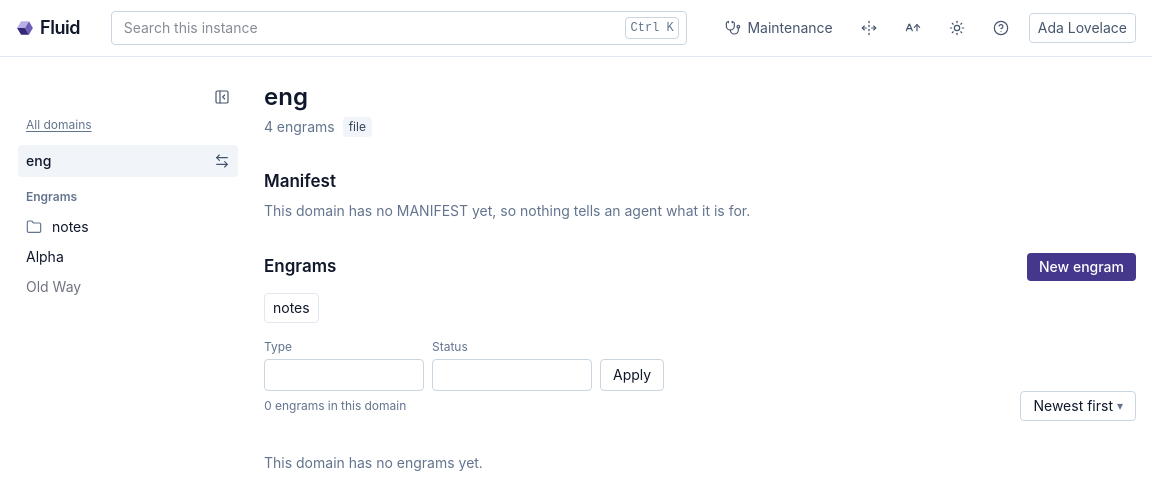
it: the sidebar inside a domain › moves to another domain when the switcher picks one
What coordinates should you click on to do the following:
click the button named "Switch domain"
I would click on:
 (222, 161)
Its box is [206, 145, 238, 177].
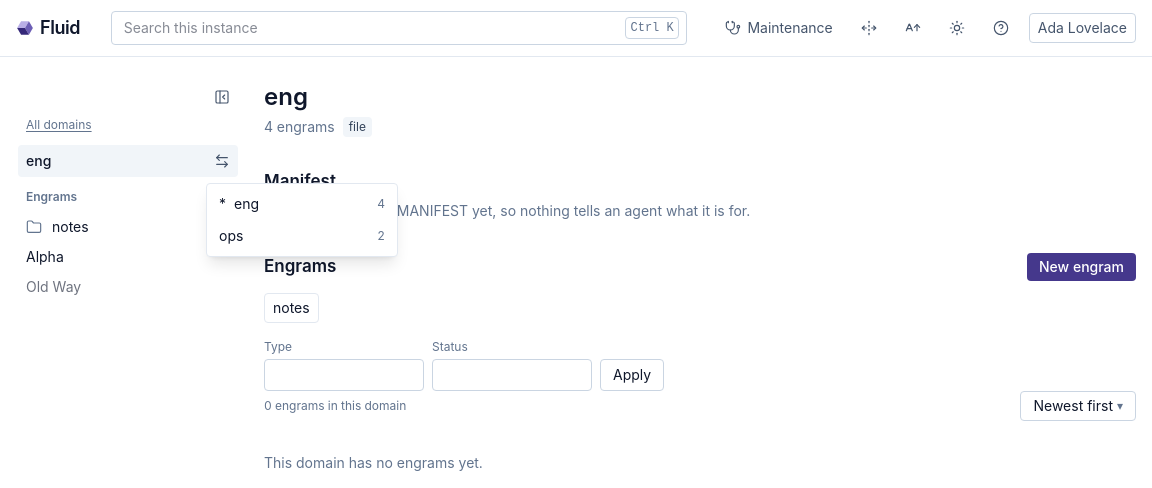
Expected: the menu item "ops 2" is shown
What coordinates should you click on to do the following:
click the menu item "ops 2"
I would click on:
 (231, 236)
Its box is [219, 227, 385, 244].
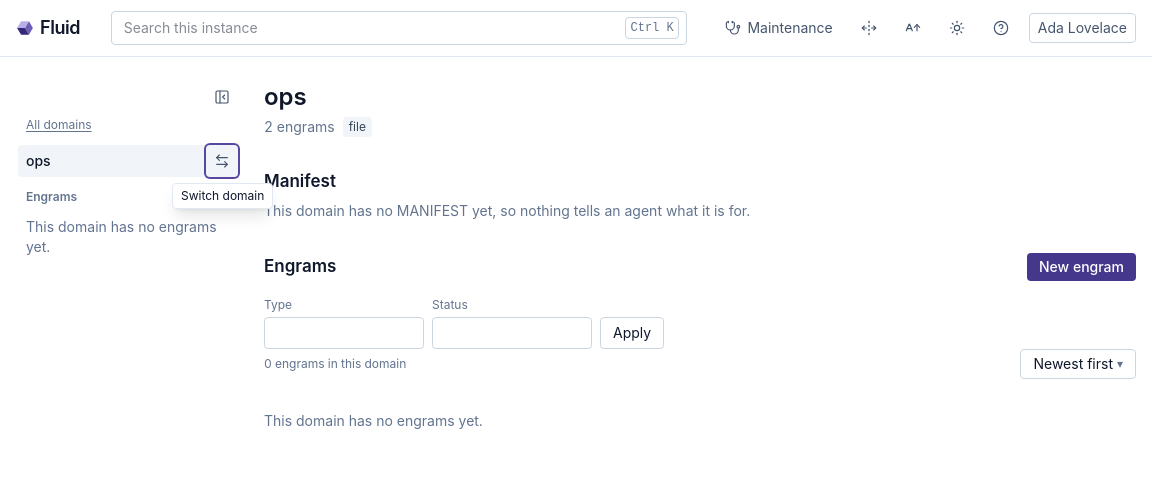
Expected: the heading "ops" is shown, [264, 81, 307, 113]
